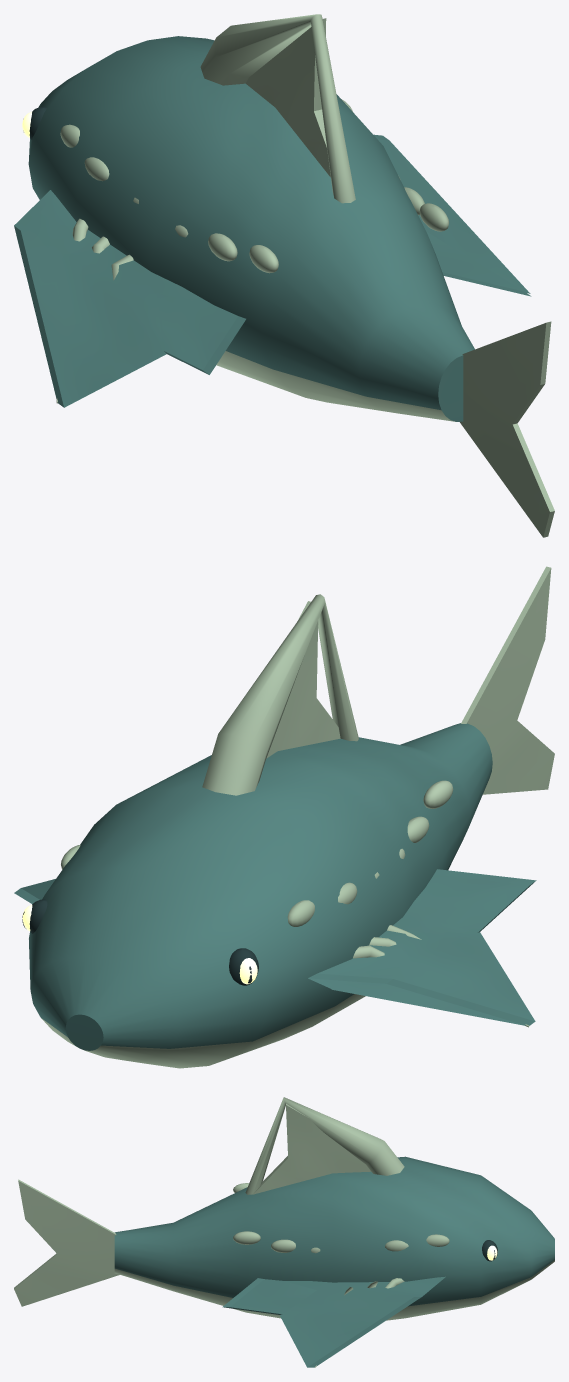
File: fin.glb
The picture shows the model from 3 angles, top to bottom: view 1: azimuth 30°, elevation 25°; view 2: azimuth 150°, elevation 25°; view 3: azimuth 270°, elevation 25°; orthographic projection. The views are drawn at different scales.
Parts seen in each view (by area): view 1: Body, Walk00, Walk01; view 2: Body, Walk00; view 3: Body, Walk01.
Part boxes in pixels (x1,y1,x2,y2): Body: (22, 14, 554, 537); Walk00: (14, 190, 245, 407); Walk01: (373, 134, 531, 296); Body: (22, 566, 554, 1068); Walk00: (308, 869, 536, 1027); Body: (14, 1097, 554, 1320); Walk01: (222, 1276, 445, 1367).
Bounding box in the file's own units: 1.12 × 0.8771 × 1.93.
2 materials, 1 textured.
